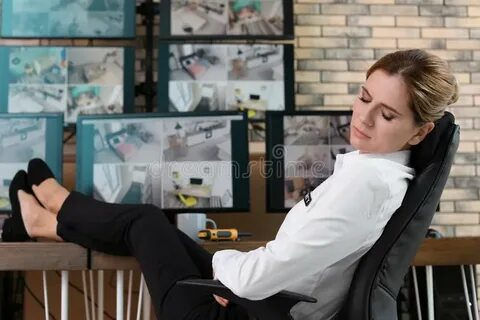sleep: (8, 47, 461, 320)
